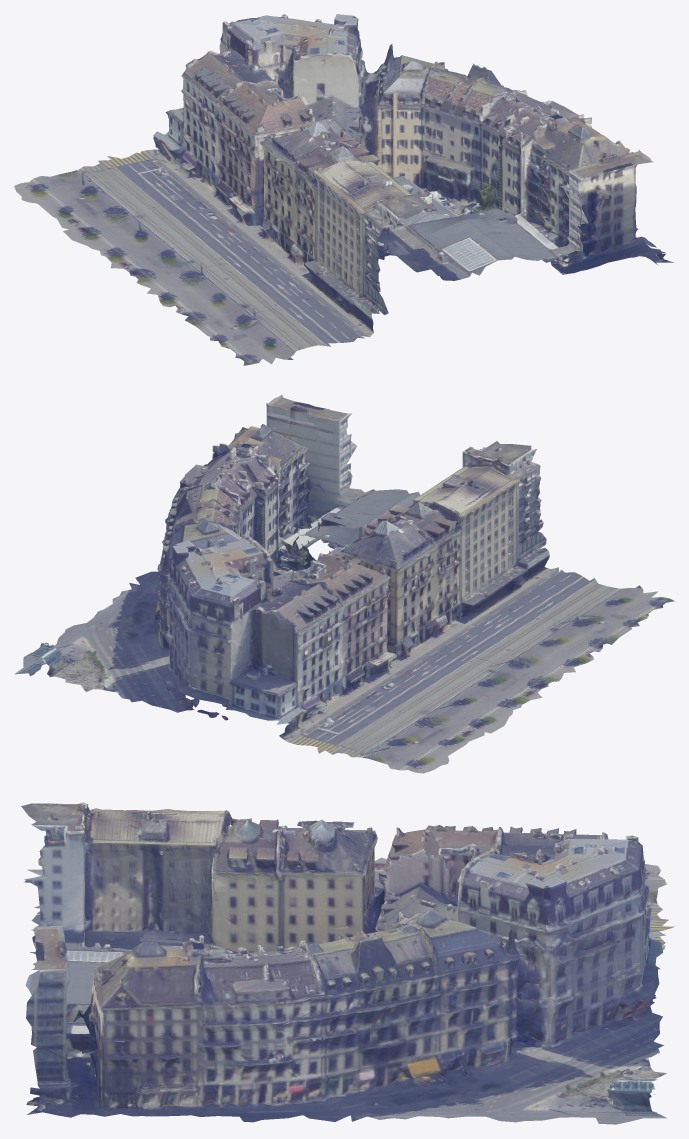
3 renders of one model, top to bottom at view 1: azimuth 30°, elevation 25°; view 2: azimuth 150°, elevation 25°; view 3: azimuth 270°, elevation 25°, orthographic. The views are drawn at different scales.
Size of the model in its own units: 106 by 29.83 by 109.
1 material, 1 textured.
